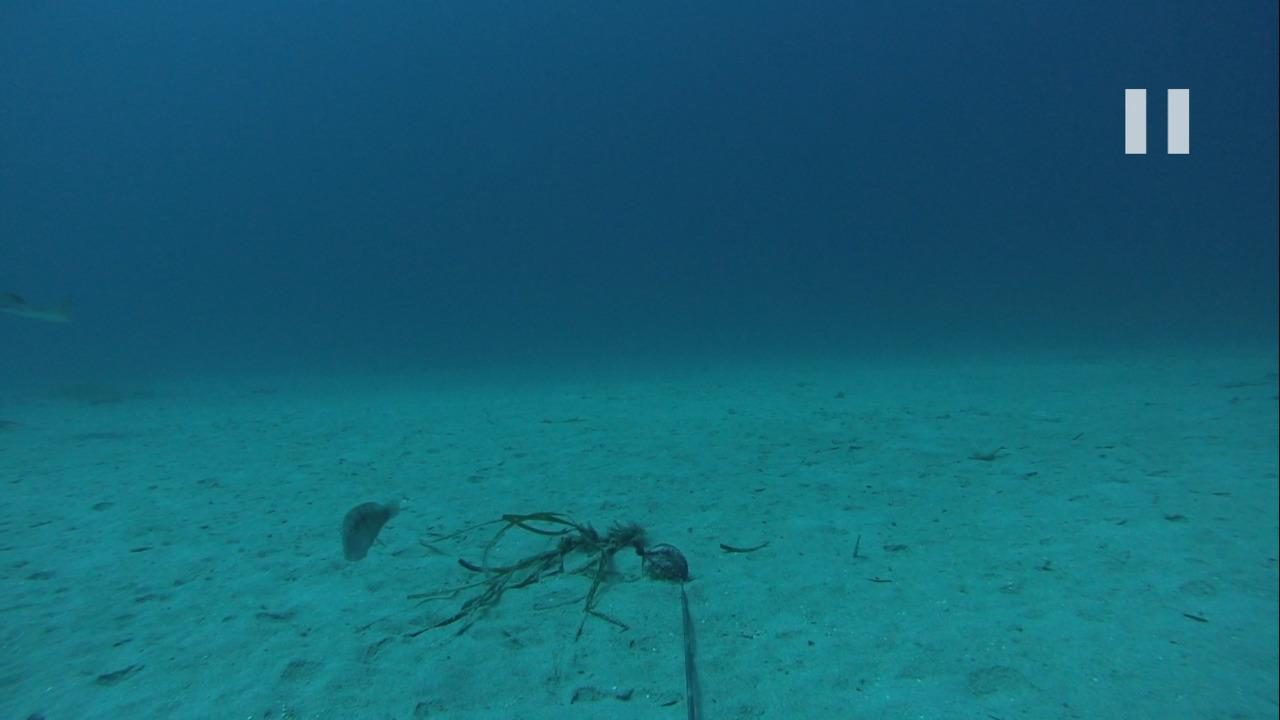myliobatis: (1, 289, 79, 338)
raor: (336, 489, 401, 563)
